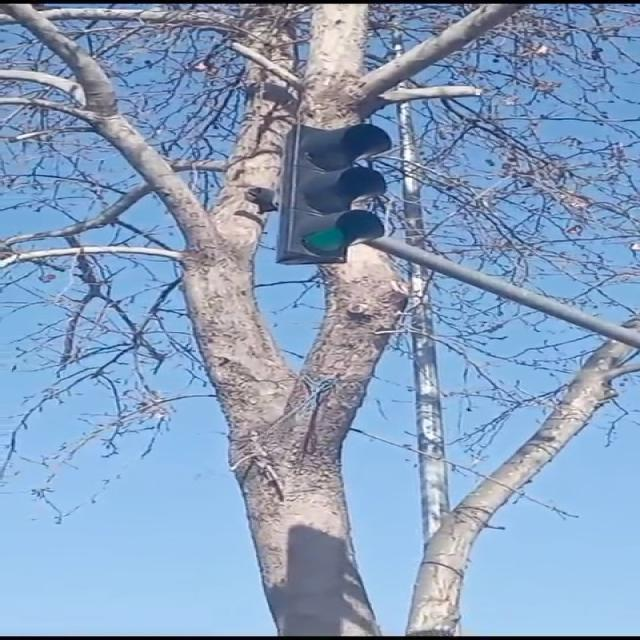yesil: (276, 124, 393, 265)
